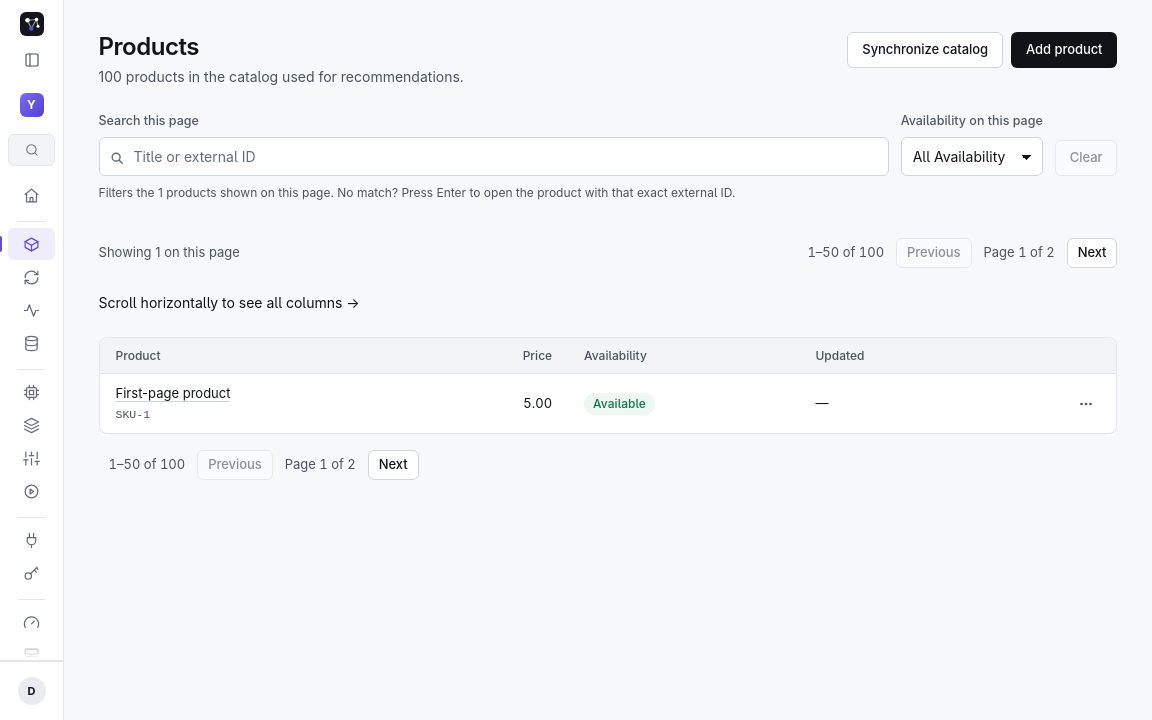
Test case: operational state › paginates the catalog through the API and hides the previous page on failure
Expected: the link "First-page product" is shown, [116,385,230,401]
Step 1. Click the button "Next" in the row of "Showing 1" → {"x": 1092, "y": 253}, box [1067,238,1117,268]
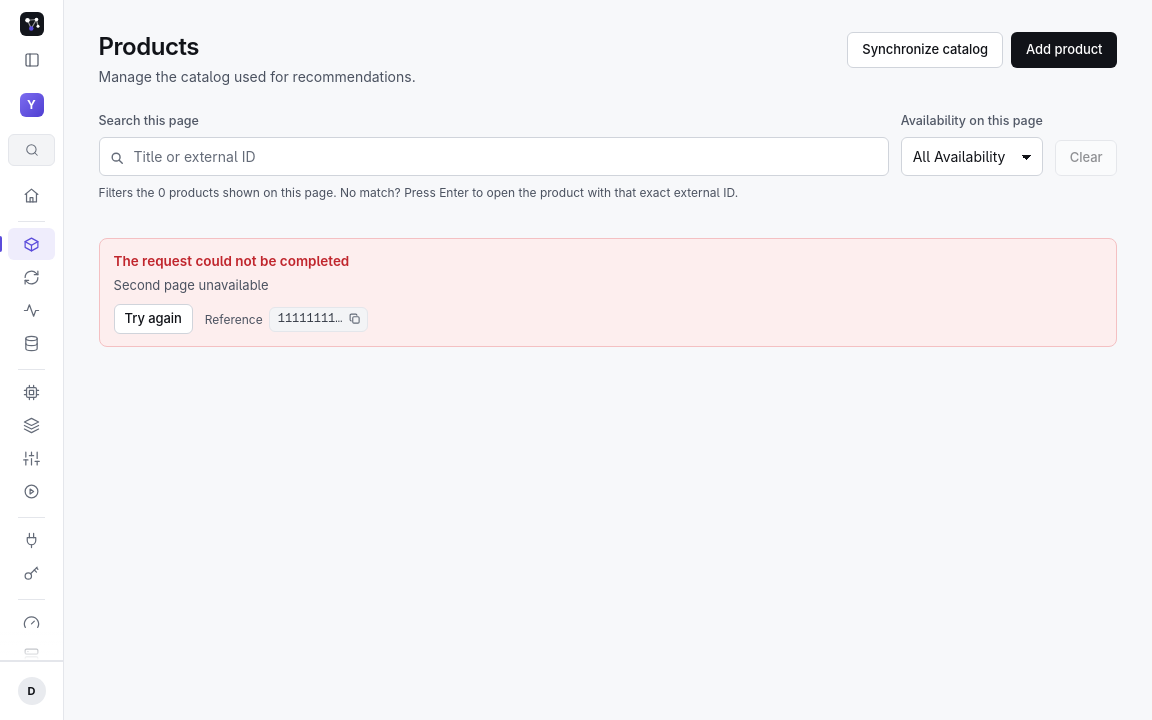
Expected: the text "Second page unavailable" is shown, [114,277,268,293]
Expected: the link "First-page product" is gone
